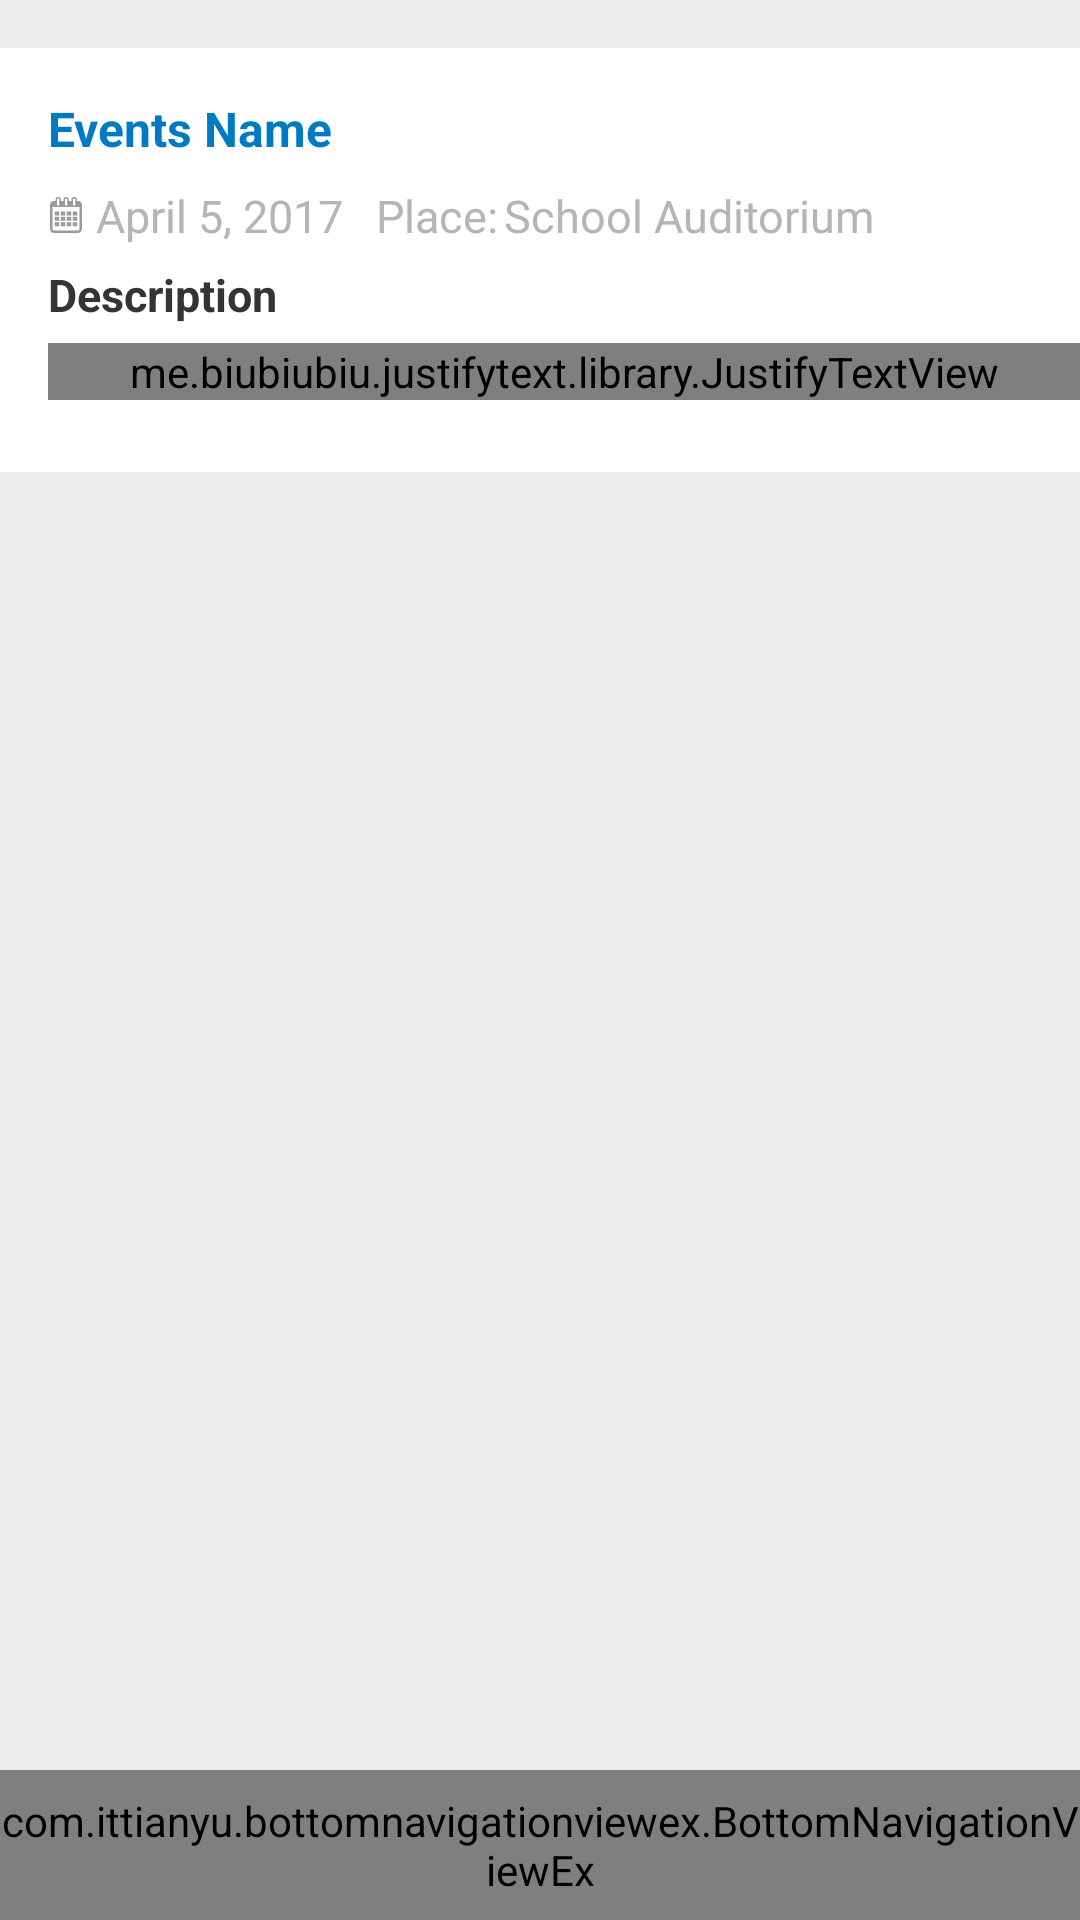

Named icons in this screenshot (1080 × 1920) and their centers, [x,y]:
calendar mini: [66,215]
